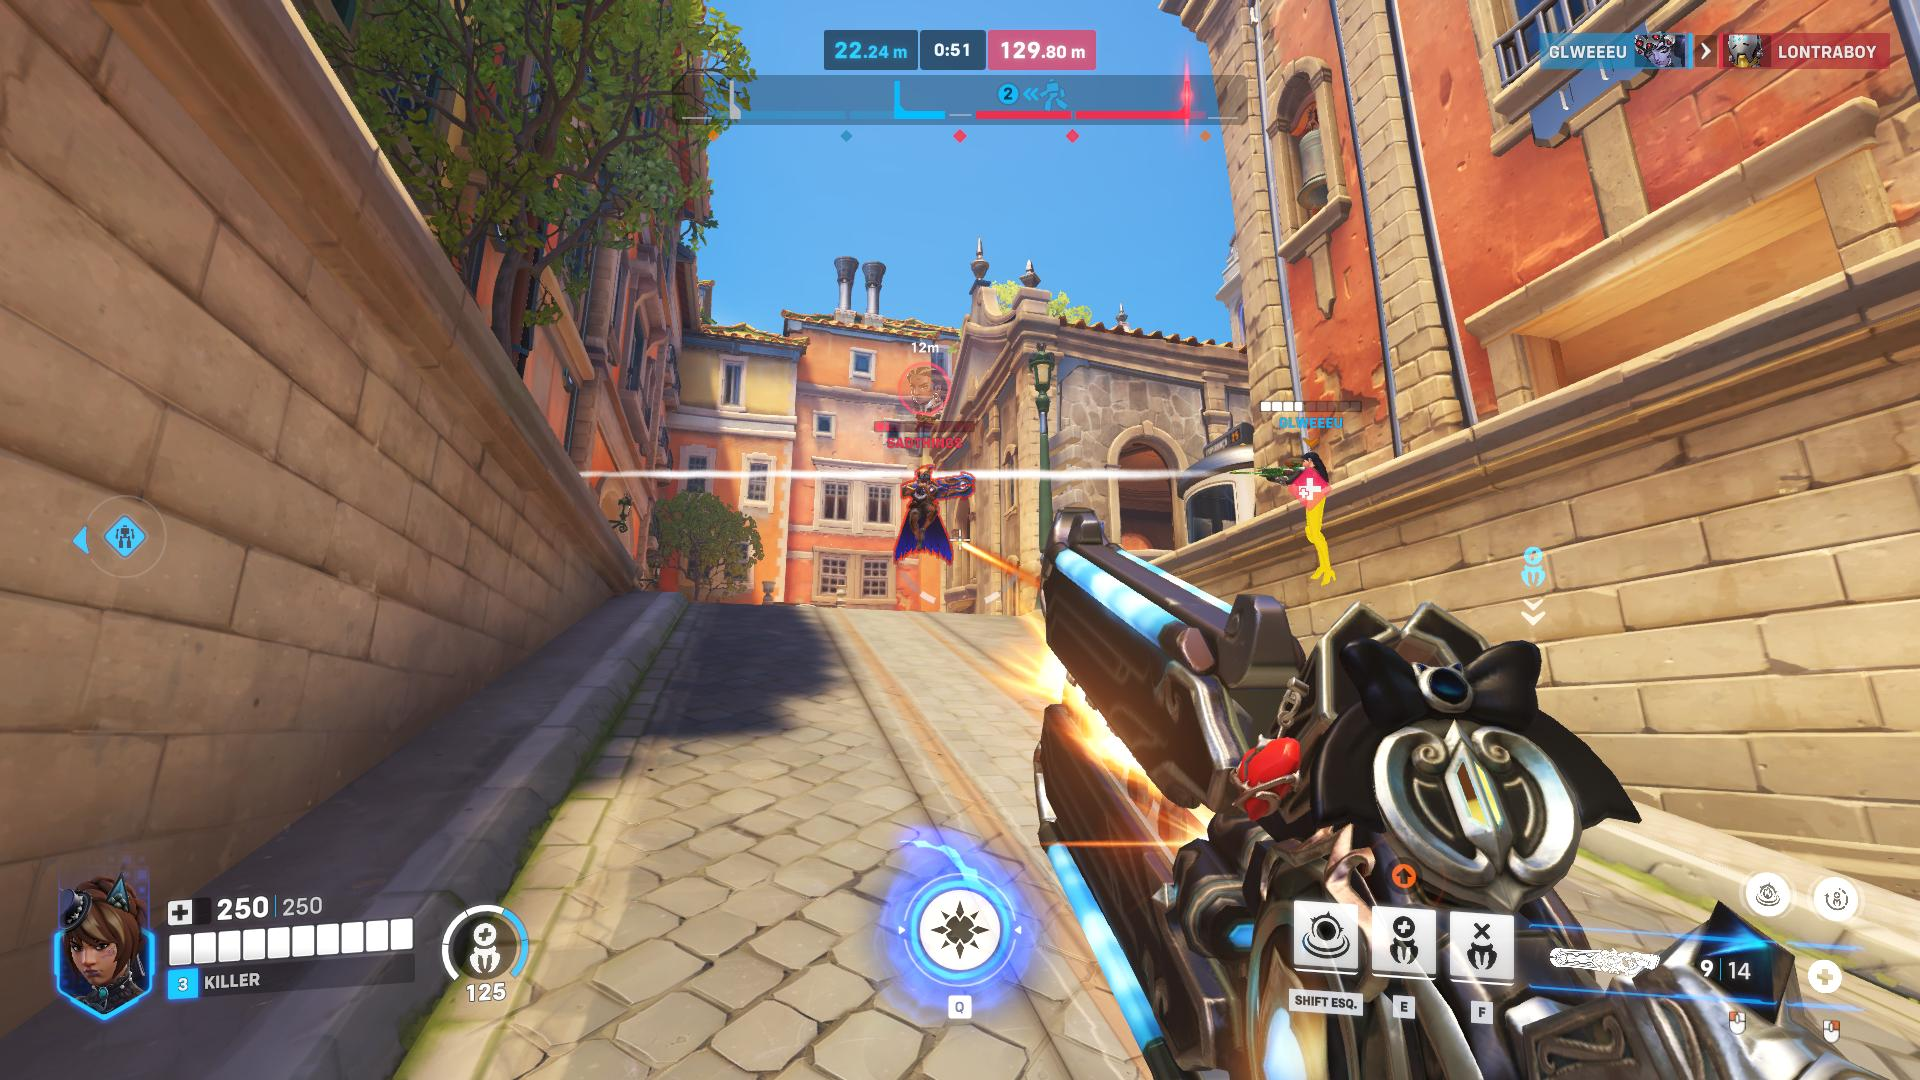enemy: (901, 465, 939, 535)
